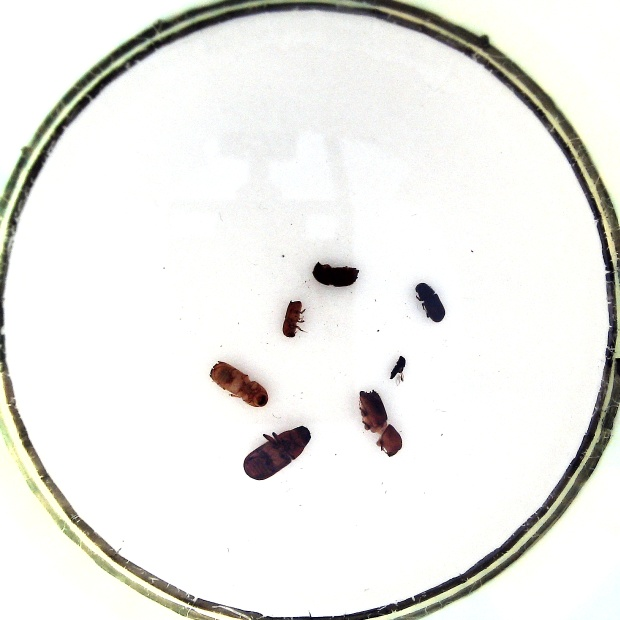acuminatus: (280, 299, 308, 339)
armandi: (414, 279, 447, 324)
boerner: (356, 388, 405, 458), (206, 359, 270, 408)
coleoptera: (387, 354, 409, 385)
leconte: (241, 425, 312, 482)
linnaeus: (311, 260, 362, 288)
